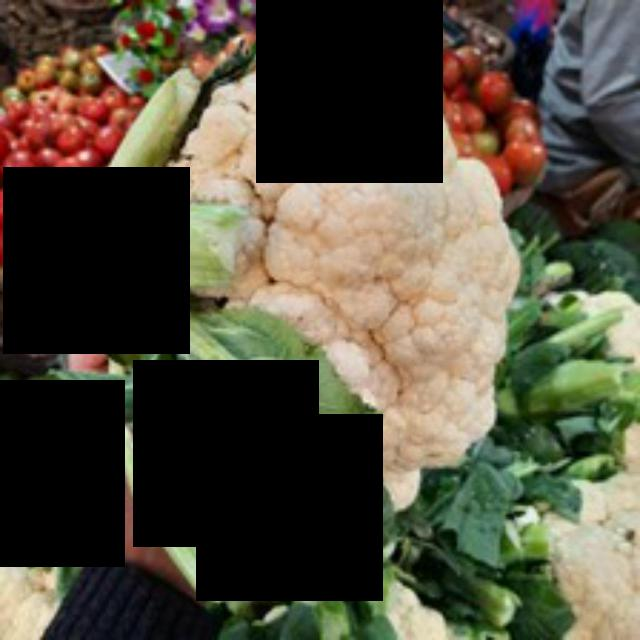cauliflower: (145, 48, 534, 522)
